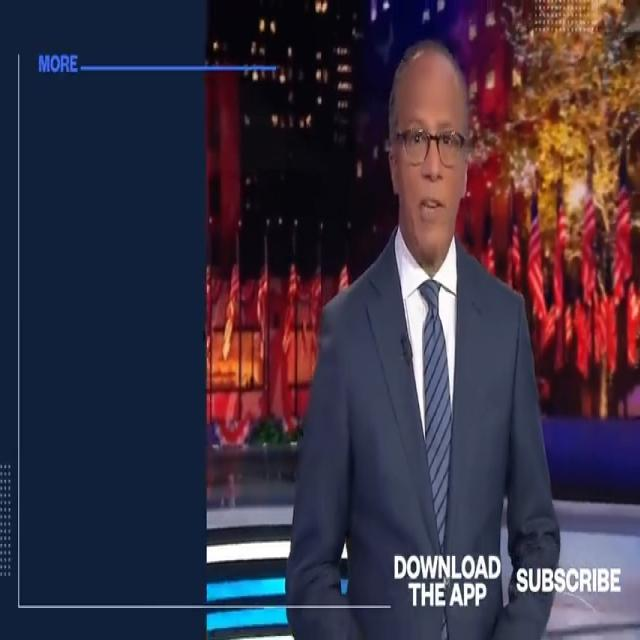non-fight: (277, 30, 578, 640)
